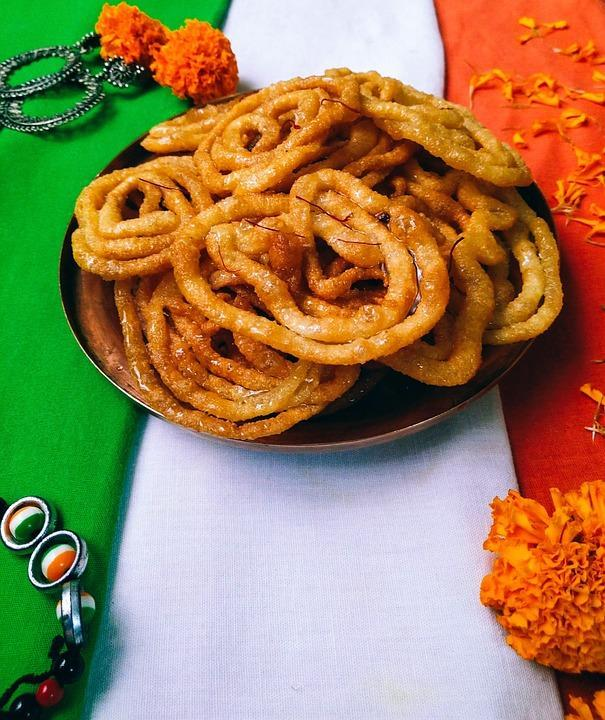jalebi: (66, 75, 568, 432)
